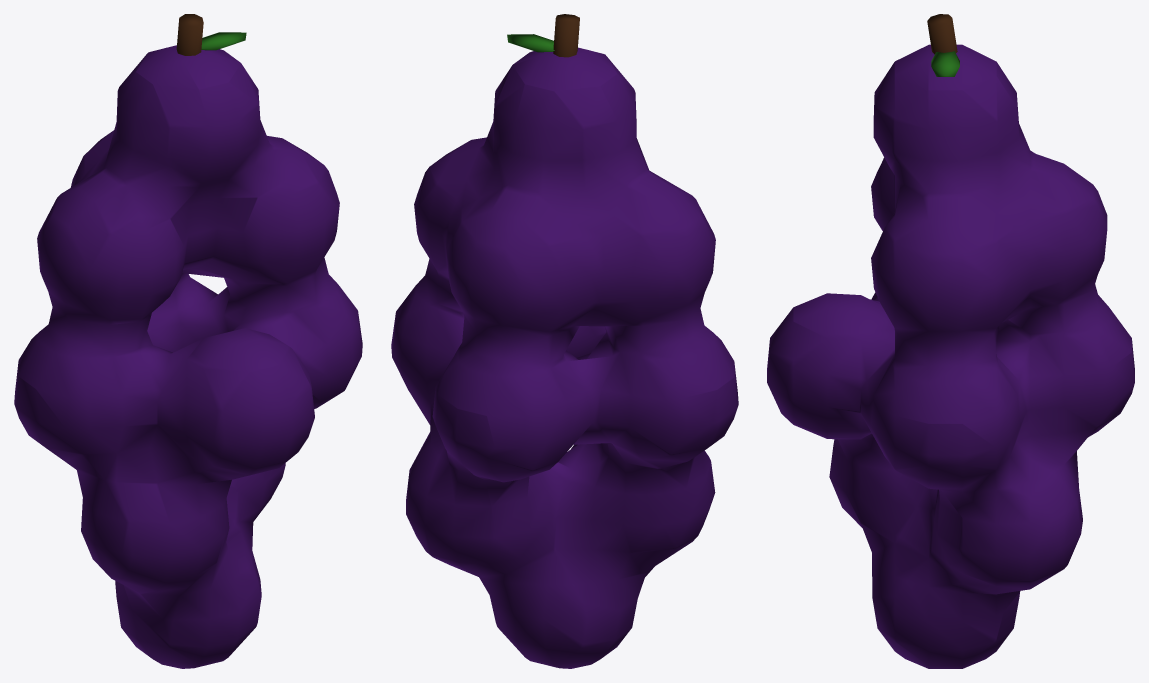
File: grape.fbx
The picture shows the model from 3 angles, left to right: view 1: azimuth 30°, elevation 25°; view 2: azimuth 150°, elevation 25°; view 3: azimuth 270°, elevation 25°; orthographic projection.
Visible parts, largest first — view 1: grape; view 2: grape; view 3: grape.
Part boxes in pixels (x1,y1,x2,y2): grape: (14, 14, 362, 668); grape: (391, 14, 738, 668); grape: (767, 14, 1134, 668).
Bounding box in the file's own units: 53.31 × 100 × 51.81.
Materials: 1 (1 with a texture image).
